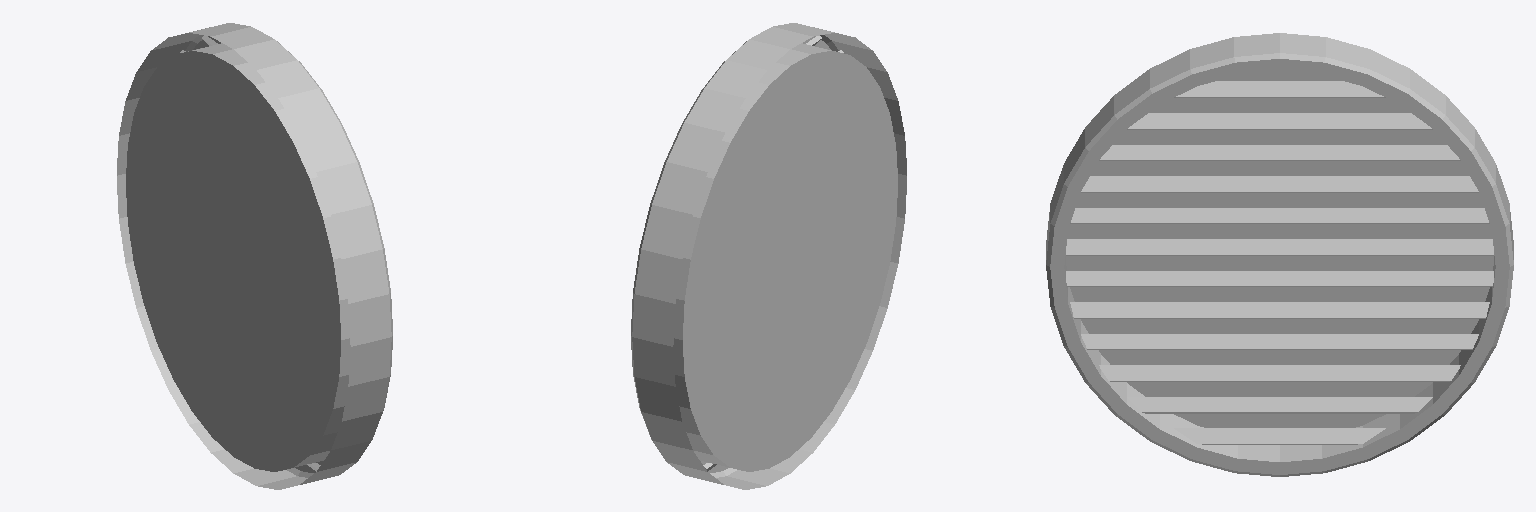
File: vent4_Low.obj
The picture shows the model from 3 angles: view 1: azimuth 30°, elevation 25°; view 2: azimuth 150°, elevation 25°; view 3: azimuth 270°, elevation 25°; orthographic projection.
Visible parts, largest first — view 1: Low; view 2: Low; view 3: Low.
Part boxes in pixels (x1,y1,x2,y2): Low: (117,23,392,489); Low: (631,23,906,489); Low: (1046,33,1513,476).
Size of the model in its own units: 0.4491 by 4.06 by 4.06.